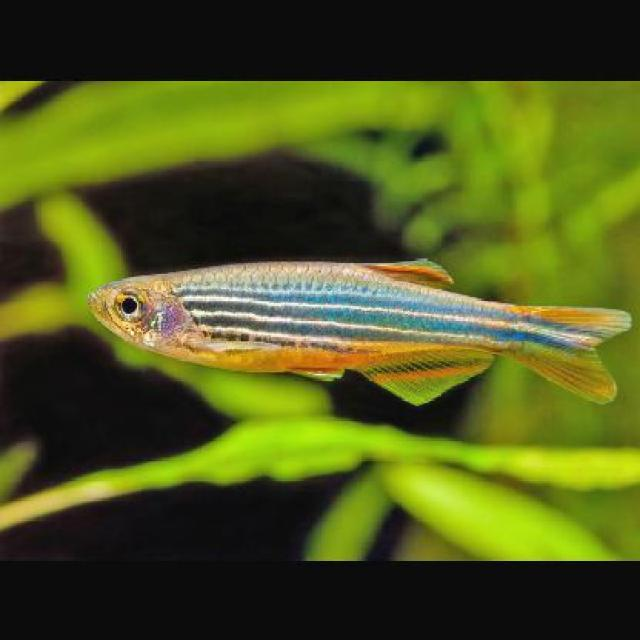ZebraFish: (91, 255, 632, 410)
